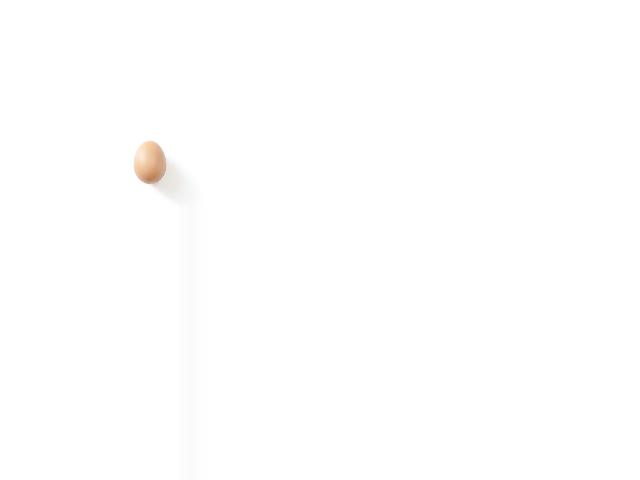egg: (133, 140, 165, 184)
